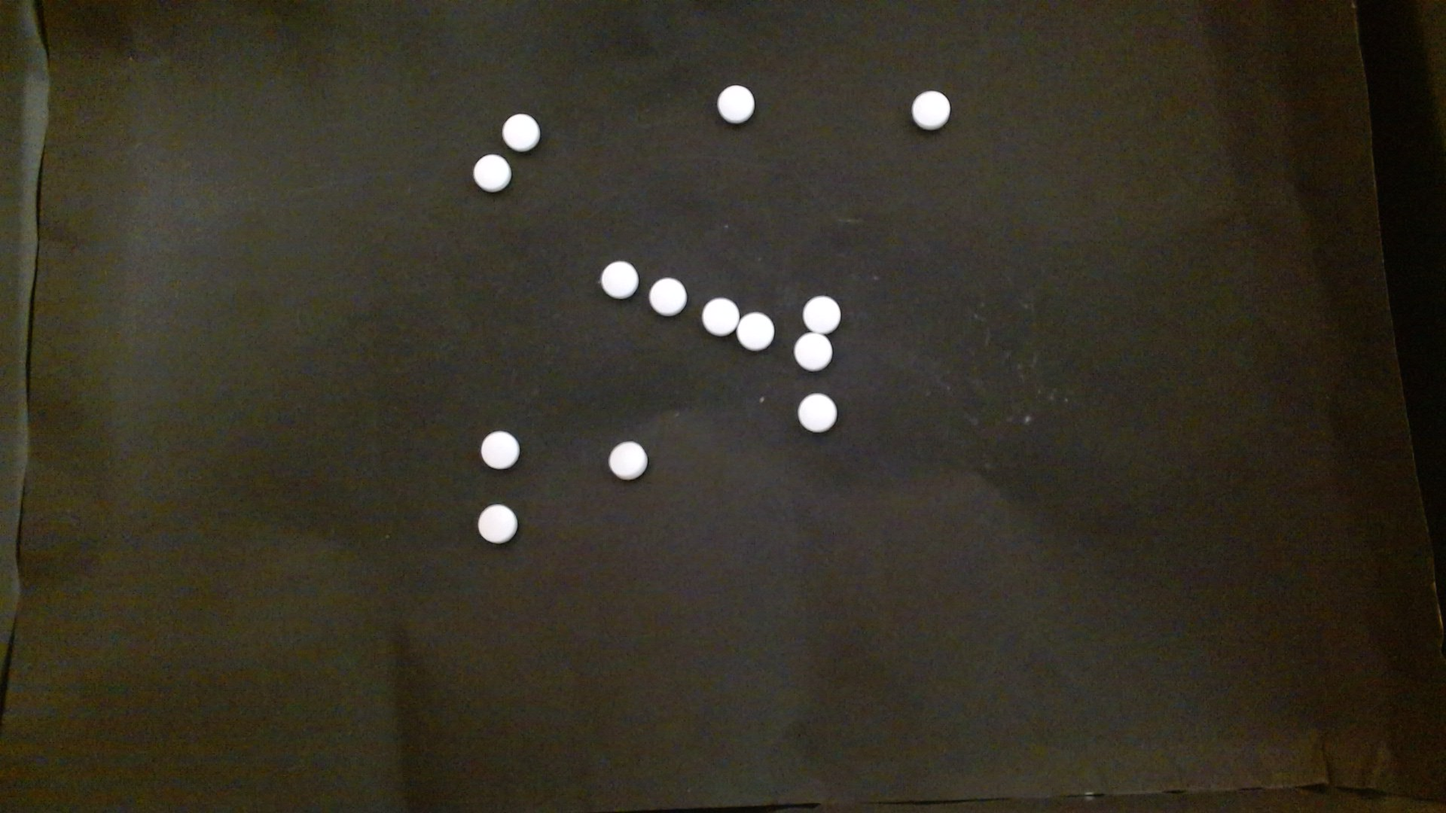Circle: (477, 430, 520, 470), (476, 504, 517, 544), (793, 331, 833, 371), (608, 441, 648, 481), (599, 260, 639, 299), (797, 394, 836, 434), (472, 153, 511, 192), (803, 294, 842, 333), (716, 84, 755, 123), (911, 90, 950, 129), (502, 112, 540, 151), (649, 277, 686, 315), (736, 312, 773, 349), (702, 297, 738, 335)
